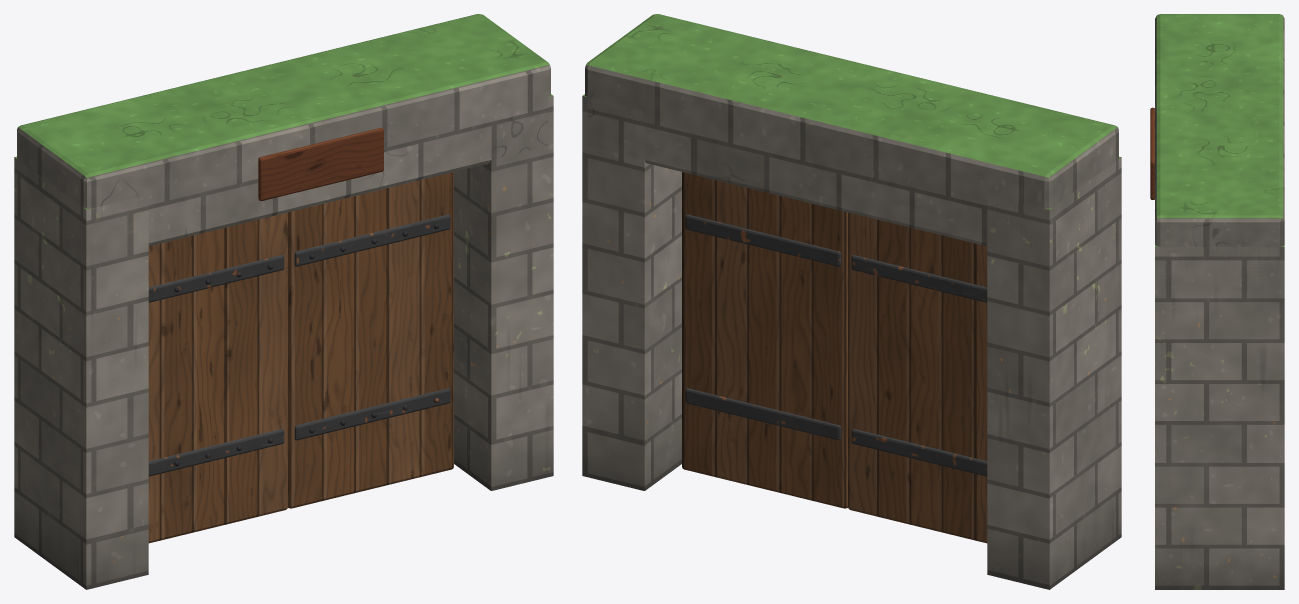
Rendered from fort_gate.glb.
3 views of the same model, side by side, from view 1: azimuth 30°, elevation 25°; view 2: azimuth 150°, elevation 25°; view 3: azimuth 270°, elevation 25° (orthographic). The views are drawn at different scales.
Parts seen in each view (by area): view 1: Gate, DoorR, DoorL; view 2: Gate, DoorR, DoorL; view 3: Gate.
Part boxes in pixels (<box>): Gate: <box>14,14,553,589</box>; DoorR: <box>288,172,453,508</box>; DoorL: <box>148,212,287,543</box>; Gate: <box>582,14,1121,589</box>; DoorR: <box>682,172,847,508</box>; DoorL: <box>848,212,987,543</box>; Gate: <box>1150,14,1284,589</box>.
Bounding box in the file's own units: 4.5 × 3.8 × 1.25.
1 material, 1 textured.
